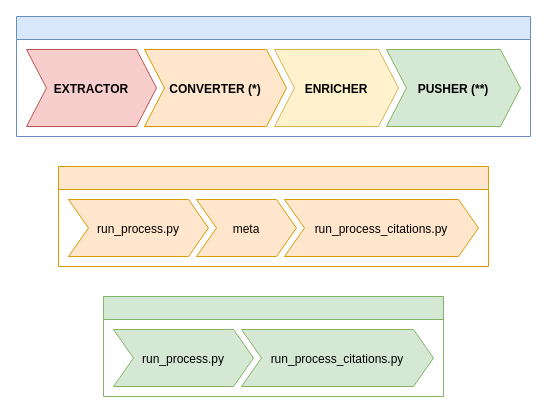
Image size: 547x413. Some labels were removed from this diagram. The box of each missing label's shape, as (x1, y1, x2, y2) in pixels:
(*) CONVERTER: (58, 166, 488, 266)
(**) PUSHER: (102, 296, 444, 396)
WCW Workflow: (16, 16, 530, 136)
